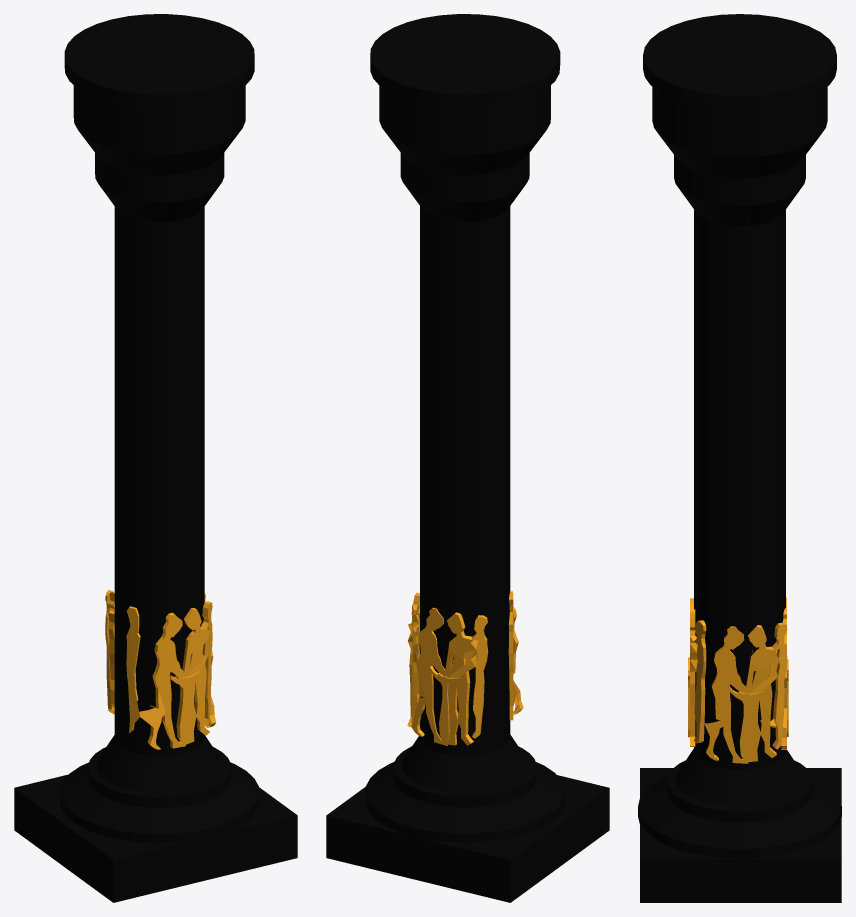
File: GreekPillar_1.fbx
3 renders of one model, left to right at view 1: azimuth 30°, elevation 25°; view 2: azimuth 150°, elevation 25°; view 3: azimuth 270°, elevation 25°, orthographic.
Visible parts, largest first — view 1: Cube, Plane; view 2: Cube, Plane; view 3: Cube, Plane.
Part boxes in pixels (x1,y1,x2,y2): Cube: [14, 14, 297, 902]; Plane: [105, 590, 216, 749]; Cube: [326, 14, 609, 902]; Plane: [407, 591, 523, 745]; Cube: [638, 14, 841, 902]; Plane: [688, 597, 788, 763].
Size of the model in its own units: 151 by 618 by 142.
